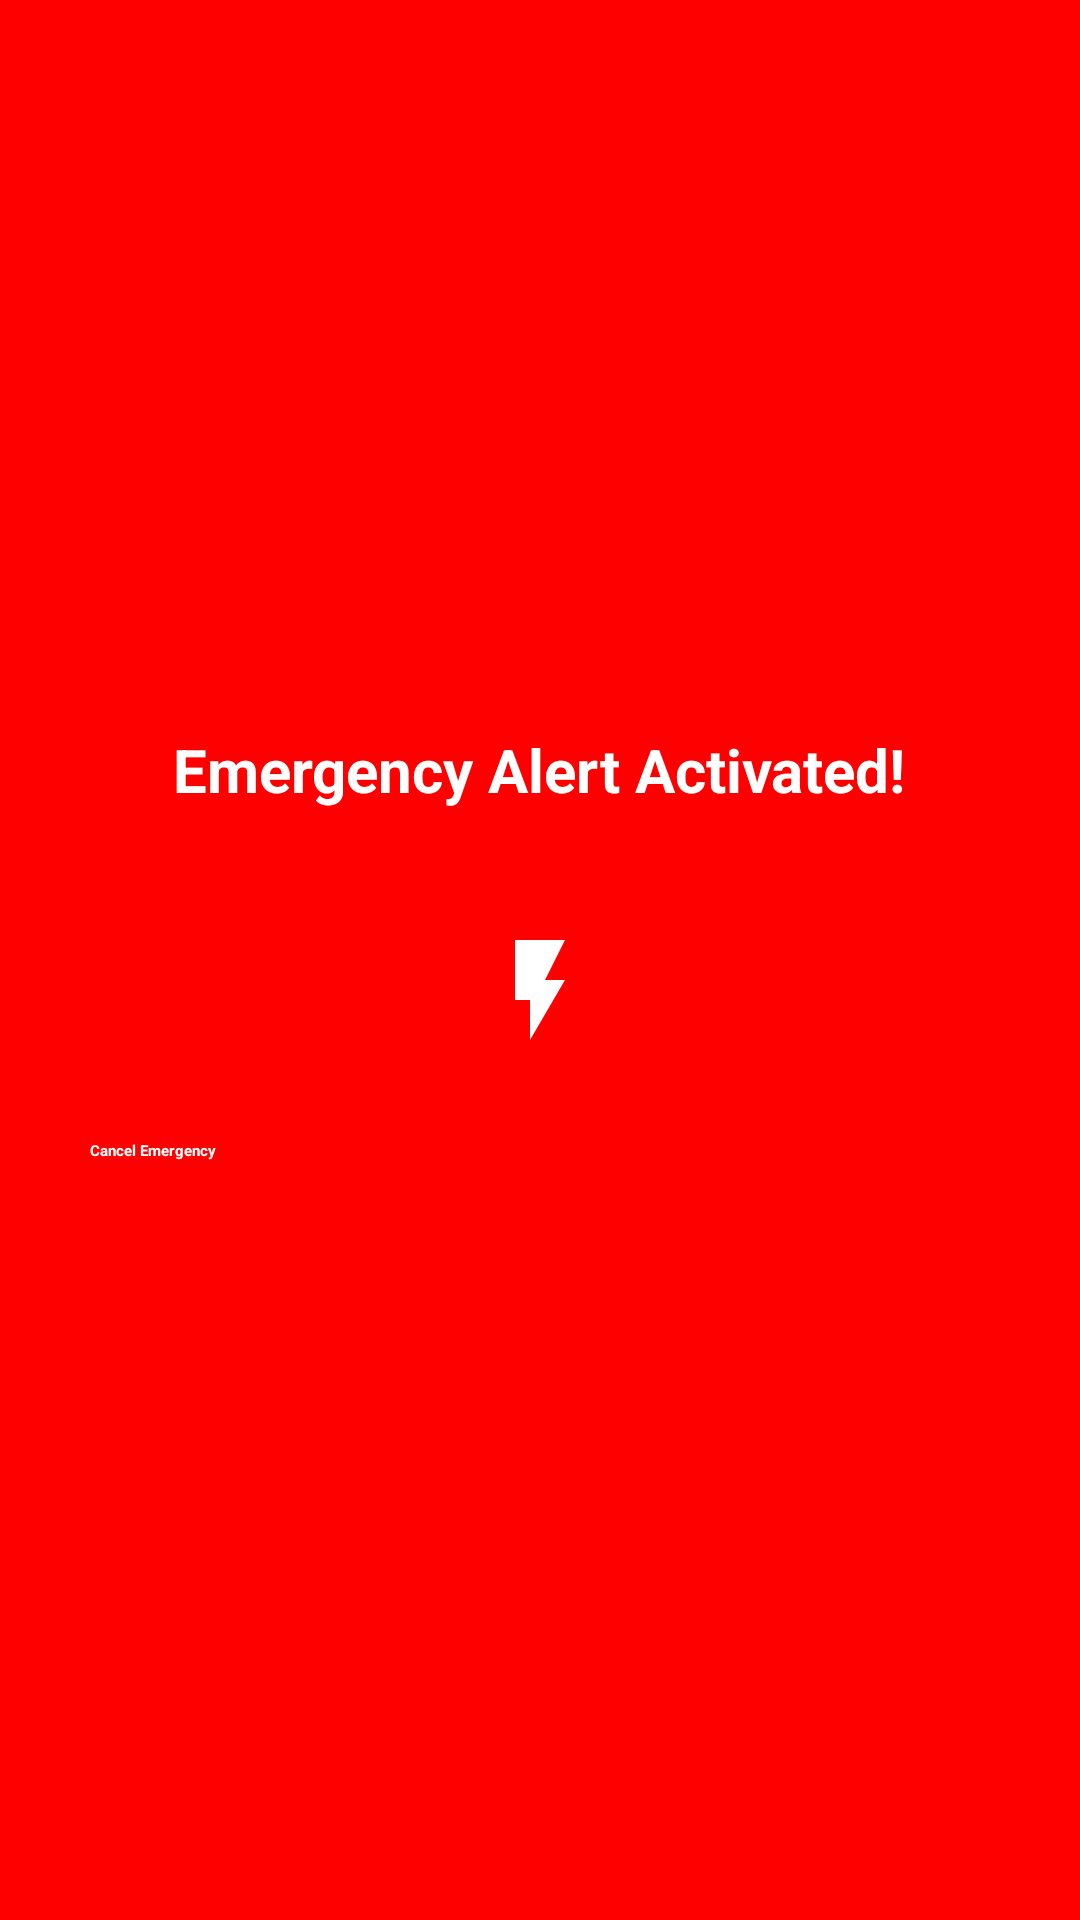

Icons on this 1080w x 1920h Android screen, each with the point to tap as (x=x, y=y):
Flashlight: (x=540, y=990)
